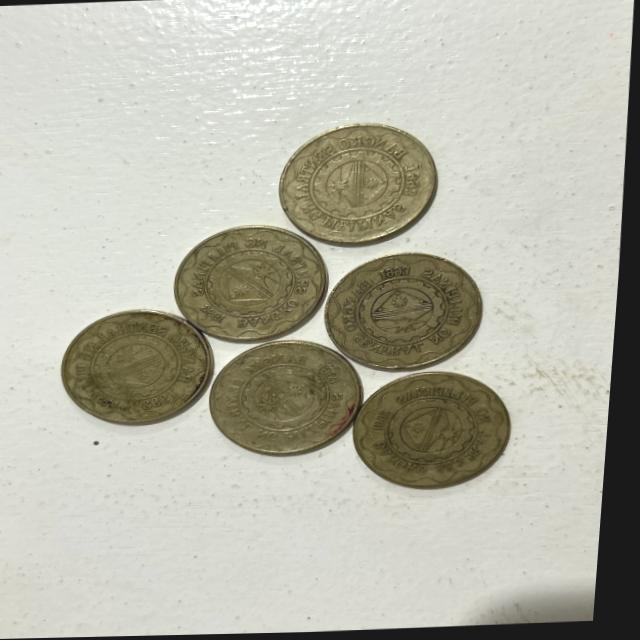5_Old_Back: (273, 119, 464, 248), (45, 307, 217, 433), (354, 370, 517, 496), (204, 337, 373, 455), (173, 222, 332, 347), (324, 251, 493, 368)
